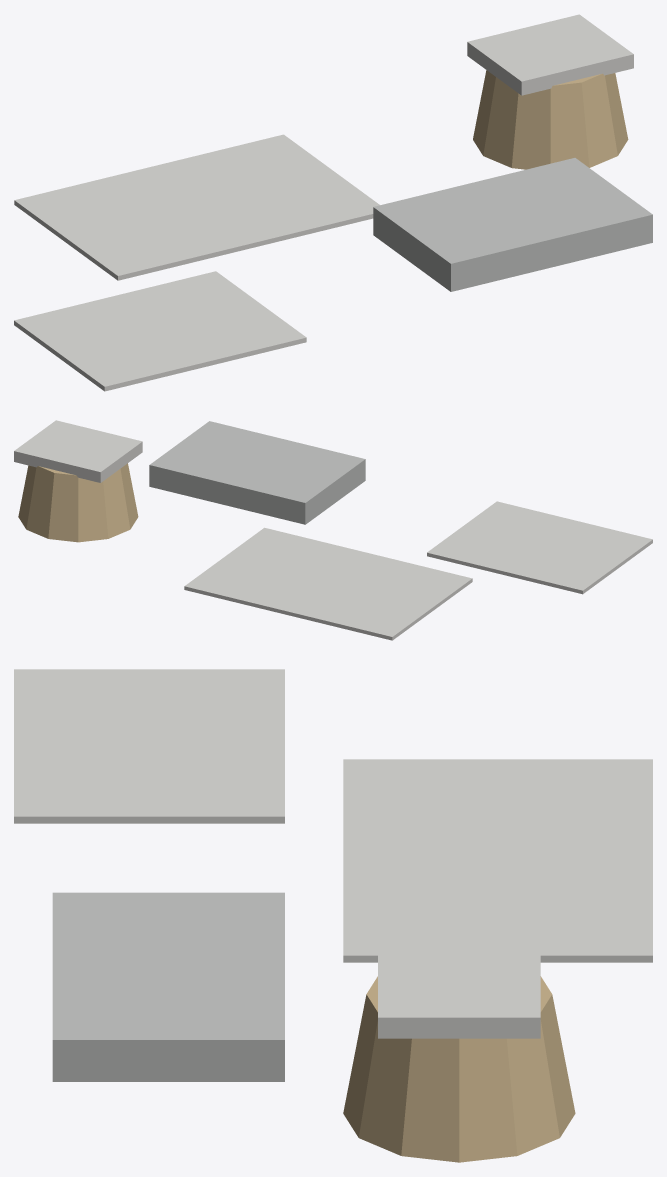
Rendered from laundry.glb.
The picture shows the model from 3 angles, top to bottom: view 1: azimuth 30°, elevation 25°; view 2: azimuth 150°, elevation 25°; view 3: azimuth 270°, elevation 25°; orthographic projection. The views are drawn at different scales.
Visible parts, largest first — view 1: laundry_linen, laundry_stone, laundry_basket; view 2: laundry_linen, laundry_stone, laundry_basket; view 3: laundry_linen, laundry_stone, laundry_basket.
Part boxes in pixels (x1,y1,x2,y2): laundry_linen: (14,14,633,391); laundry_stone: (373,158,652,291); laundry_basket: (473,70,628,169); laundry_linen: (14,420,652,640); laundry_stone: (149,421,365,524); laundry_basket: (18,463,138,542); laundry_linen: (14,669,652,1038); laundry_stone: (52,892,284,1081); laundry_basket: (343,976,575,1162).
Bounding box in the file's own units: 2.95 × 0.39 × 1.65.
